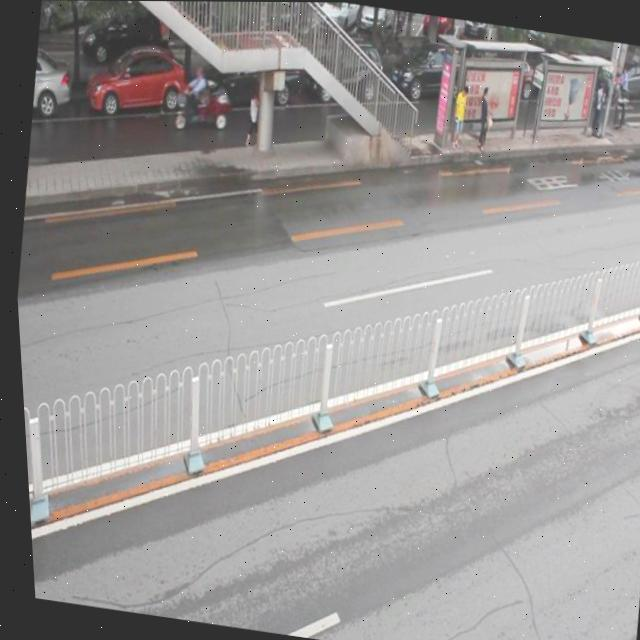car: (83, 43, 193, 128), (191, 42, 306, 116), (385, 37, 481, 112), (301, 36, 390, 115), (28, 55, 77, 122)
